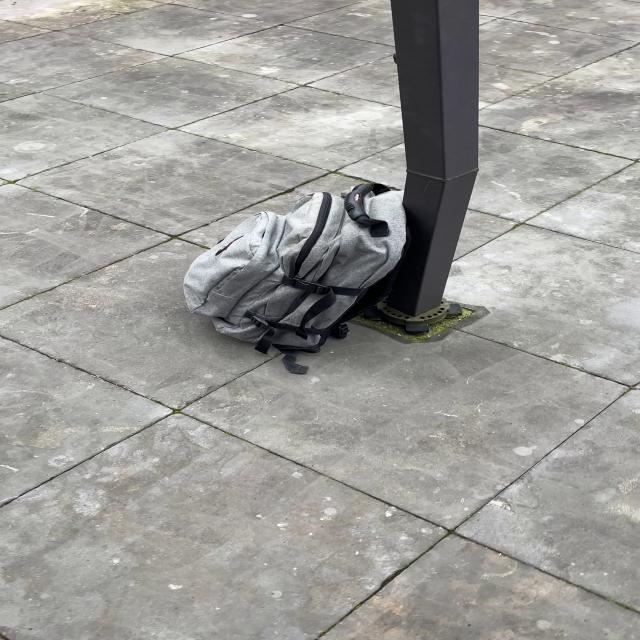backpack: (169, 174, 417, 355)
